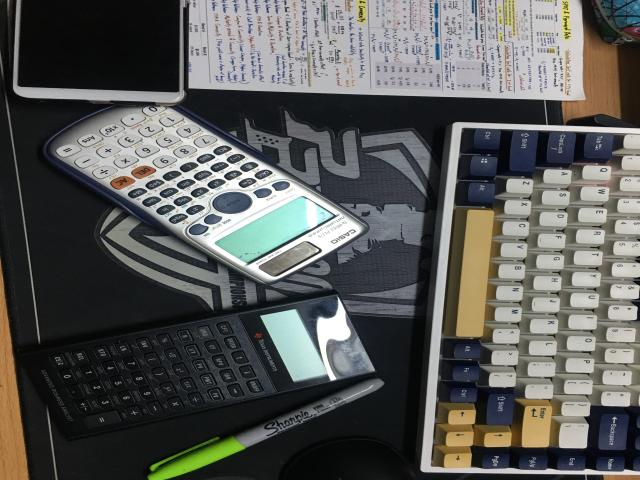Mobile phone: (13, 0, 187, 105)
Mouse: (280, 438, 418, 480)
Pen: (148, 378, 383, 480)
paper: (188, 0, 585, 100)
